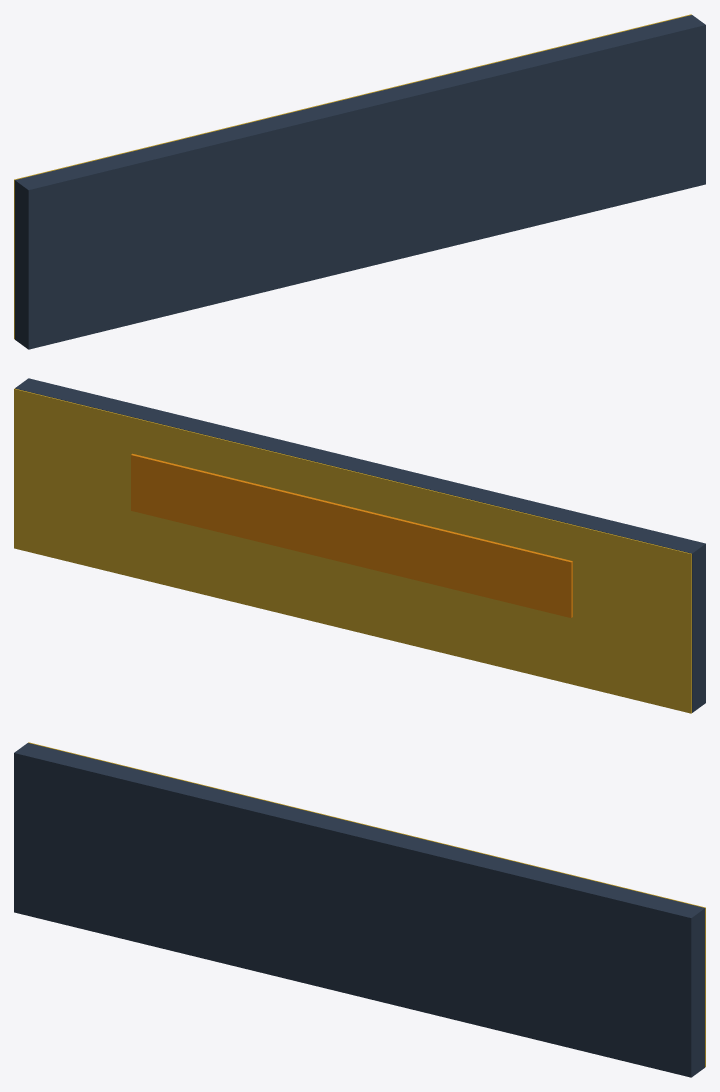
The model's file is hộp đèn bạt in UV 1 mặt 400 x 90.obj.
3 renders of one model, top to bottom at view 1: azimuth 30°, elevation 25°; view 2: azimuth 150°, elevation 25°; view 3: azimuth 330°, elevation 25°, orthographic.
Parts seen in each view (by area): view 1: Khung_Ket_Cau, Vien_Kim_Loai_Nẹp; view 2: Vien_Kim_Loai_Nẹp, Chu_Noi_3D_Logo, Khung_Ket_Cau; view 3: Khung_Ket_Cau, Vien_Kim_Loai_Nẹp.
Part boxes in pixels (<box>): Khung_Ket_Cau: <box>15,15,705,349</box>; Vien_Kim_Loai_Nẹp: <box>14,14,691,339</box>; Vien_Kim_Loai_Nẹp: <box>14,388,691,713</box>; Chu_Noi_3D_Logo: <box>131,453,572,617</box>; Khung_Ket_Cau: <box>15,378,705,712</box>; Khung_Ket_Cau: <box>14,743,704,1077</box>; Vien_Kim_Loai_Nẹp: <box>28,742,705,1067</box>.
Bounding box in the file's own units: 4 × 0.9 × 0.166.
